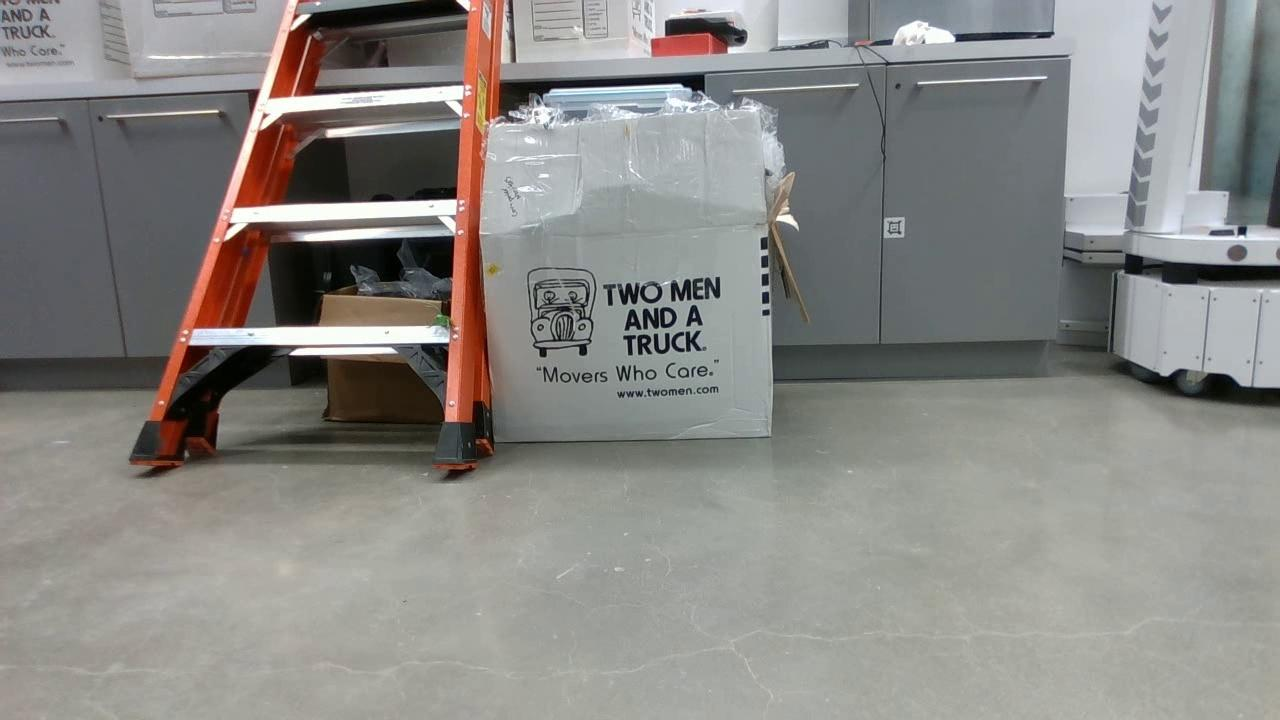grasshopper: (432, 308, 453, 328)
